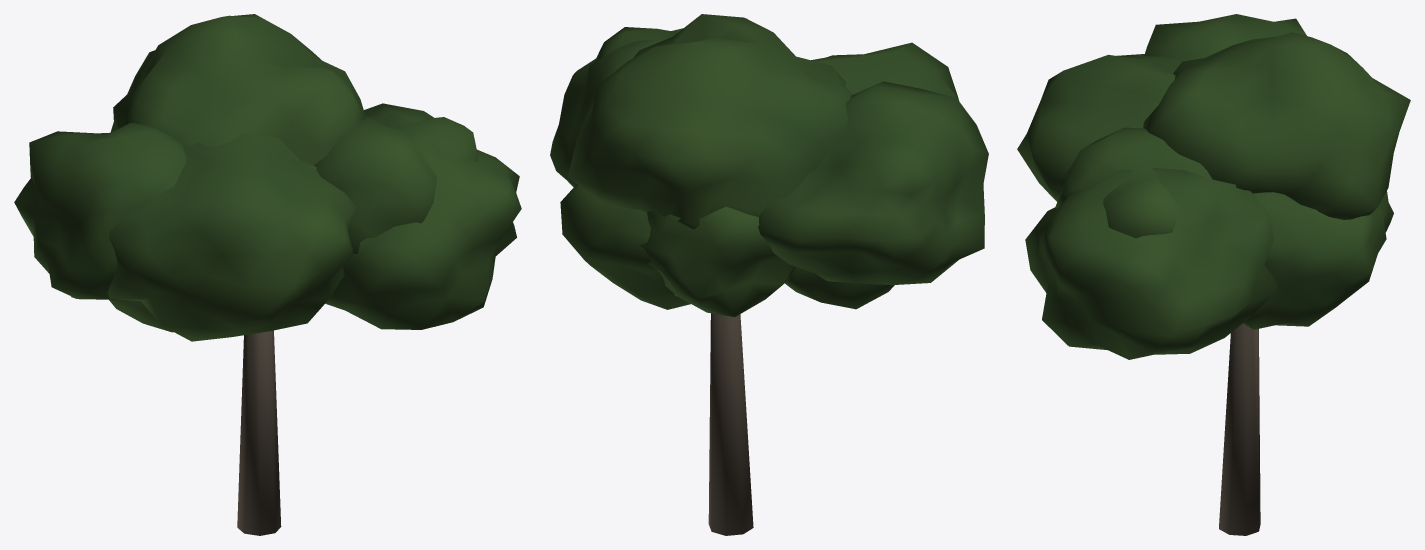
Rendered from tree_oak_04.glb.
The picture shows the model from 3 angles, left to right: view 1: azimuth 30°, elevation 25°; view 2: azimuth 150°, elevation 25°; view 3: azimuth 270°, elevation 25°; orthographic projection. The views are drawn at different scales.
Visible parts, largest first — view 1: tree_oak_04; view 2: tree_oak_04; view 3: tree_oak_04.
Boxes of the visible parts, bbox=[...] form: tree_oak_04: bbox=[14, 14, 521, 535]; tree_oak_04: bbox=[550, 14, 988, 535]; tree_oak_04: bbox=[1017, 14, 1410, 535].
Bounding box in the file's own units: 9.32 × 10.05 × 7.42.
